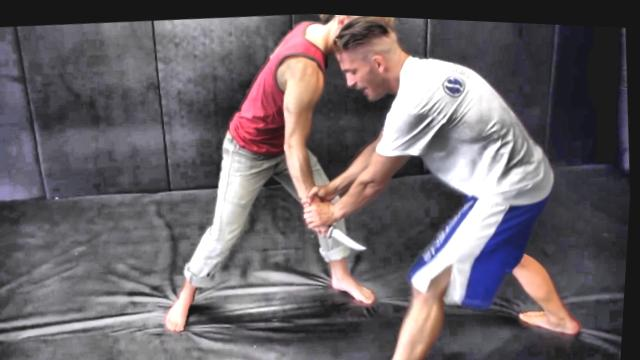knife: (304, 207, 375, 256)
